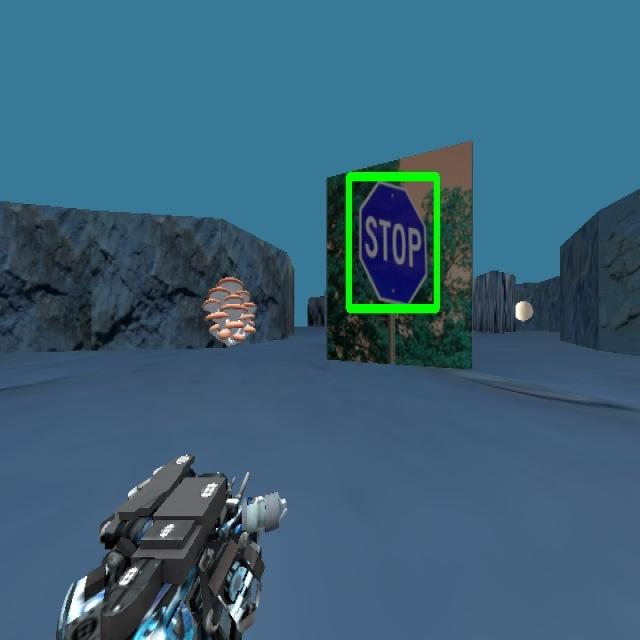Circle: (514, 291, 537, 325)
Mushroom: (202, 274, 257, 346)
Stop_Sign: (344, 169, 441, 315)
